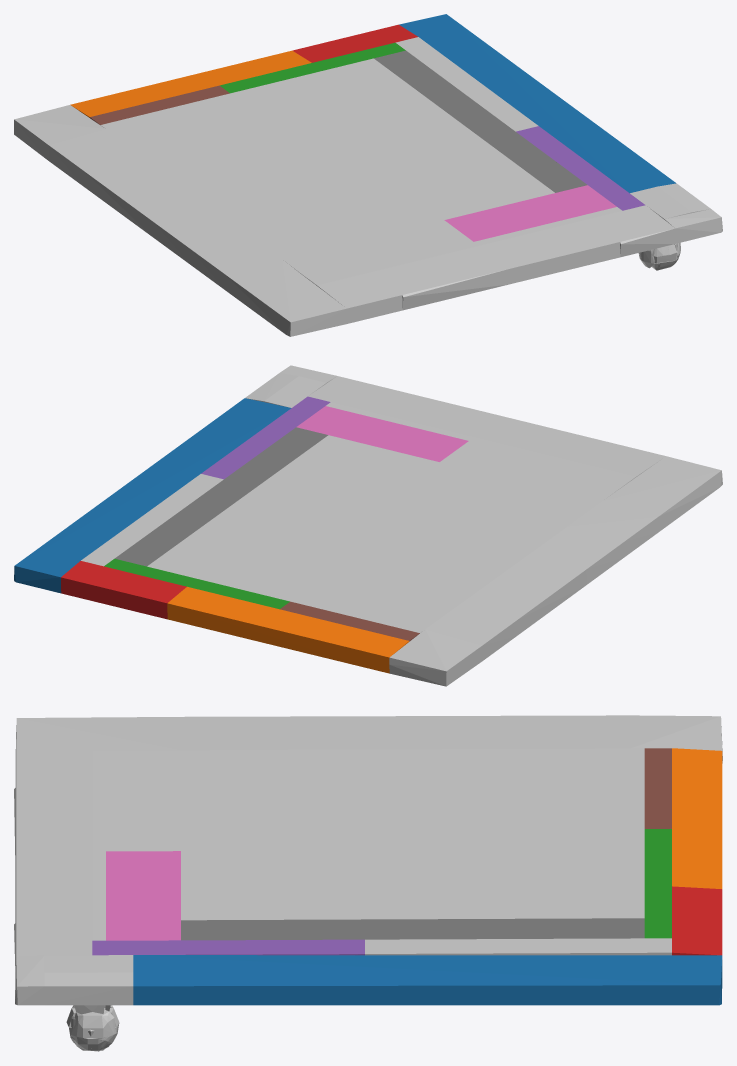
Rendered from Door_03_cvx.obj.
The picture shows the model from 3 angles, top to bottom: view 1: azimuth 30°, elevation 25°; view 2: azimuth 150°, elevation 25°; view 3: azimuth 270°, elevation 25°; orthographic projection. The views are drawn at different scales.
Visible parts, largest first — view 1: scenes/apartment_0000_coacd/output/Unknown/Cabinet/Door_03/cvx/D; view 2: scenes/apartment_0000_coacd/output/Unknown/Cabinet/Door_03/cvx/D; view 3: scenes/apartment_0000_coacd/output/Unknown/Cabinet/Door_03/cvx/D.
Boxes of the visible parts, x1,y1,x2,y2 form: scenes/apartment_0000_coacd/output/Unknown/Cabinet/Door_03/cvx/D: (14, 14, 722, 336); scenes/apartment_0000_coacd/output/Unknown/Cabinet/Door_03/cvx/D: (14, 365, 722, 686); scenes/apartment_0000_coacd/output/Unknown/Cabinet/Door_03/cvx/D: (14, 715, 722, 1051).
Size of the model in its own units: 0.5921 by 0.0897 by 0.6566.
